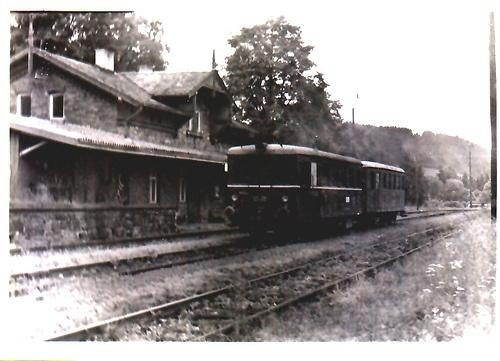train: (233, 146, 410, 237)
